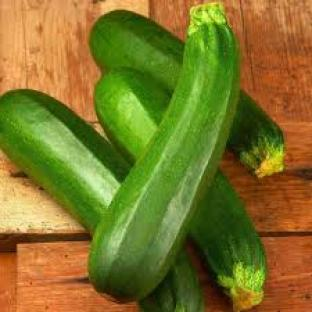Zucchini: (89, 5, 239, 300), (0, 91, 130, 232), (190, 171, 266, 310), (89, 10, 184, 92)
